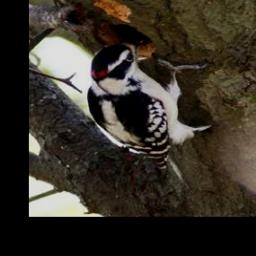Woodpecker: (87, 37, 212, 178)
